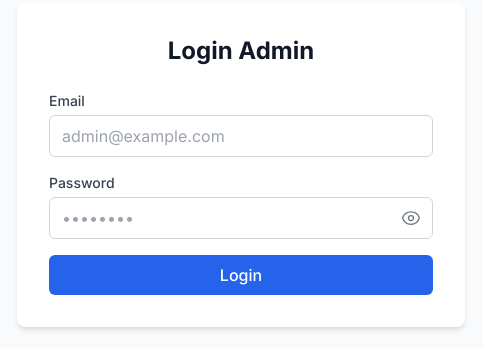
Scenario: AdminLoginPage › shows loading state while authenticating
Step 1. Type "admin@test.com" into the field labelled "Email" → (241, 136), box [49,115,433,157]
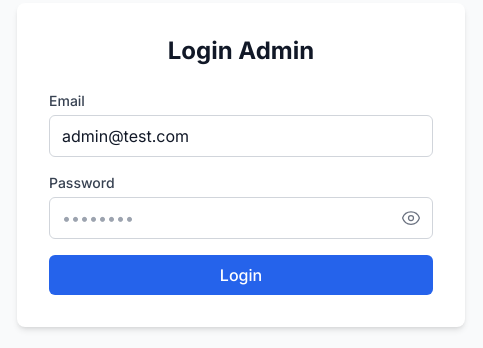
Step 2. Type "password123" into the password field labelled "Password" → (241, 218), box [49,197,433,239]
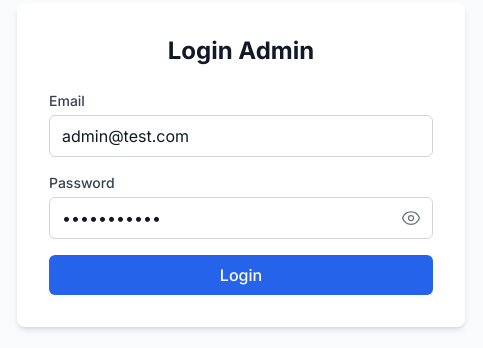
Step 3. Click the button "Login" → (241, 275), box [49,255,433,295]
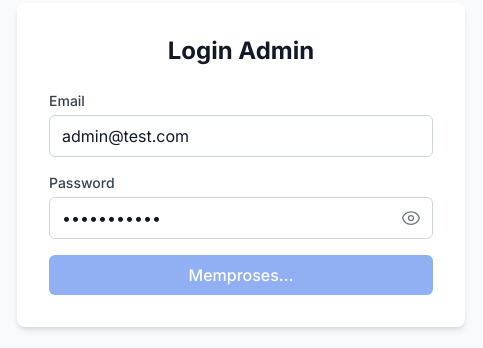
Expected: the button "Memproses..." is disabled, [49,255,433,295]
